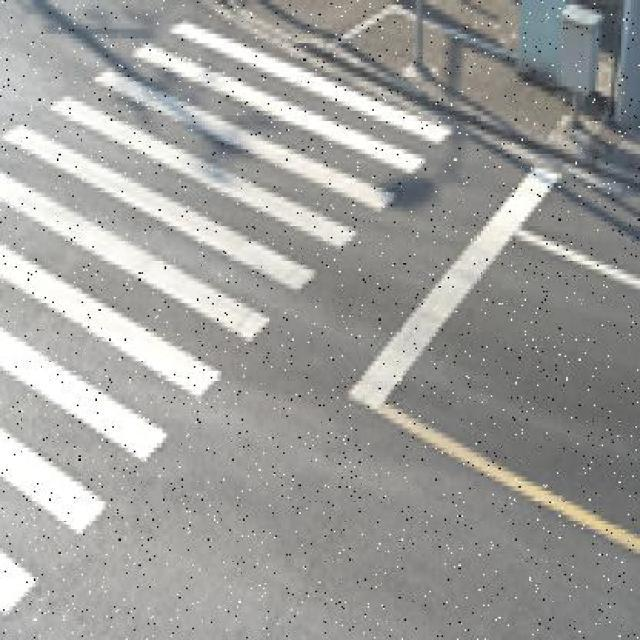intact_crosswalk: (0, 16, 460, 622)
